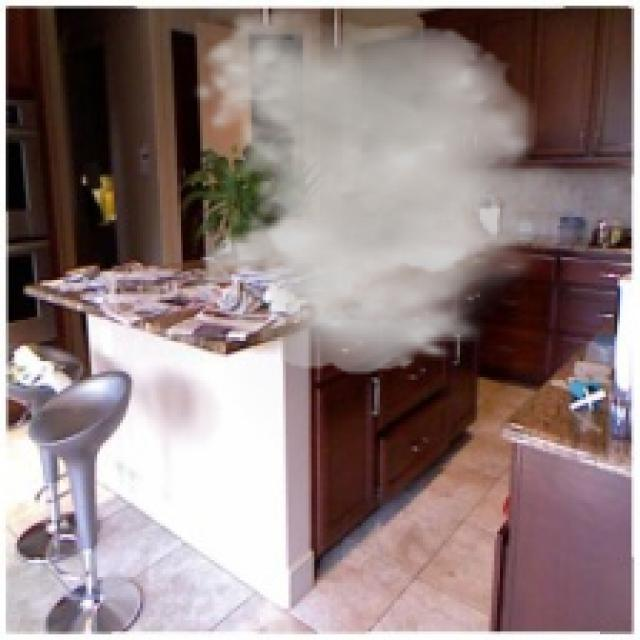Smoke: (188, 8, 588, 374)
